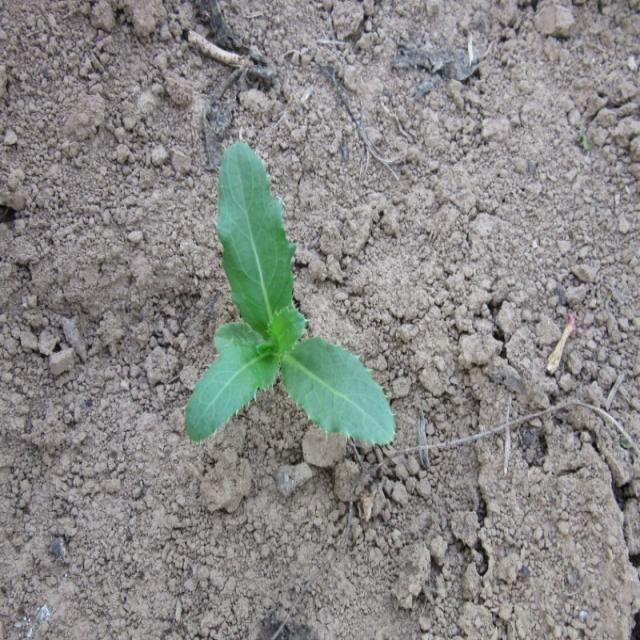cs: (184, 137, 397, 450)
